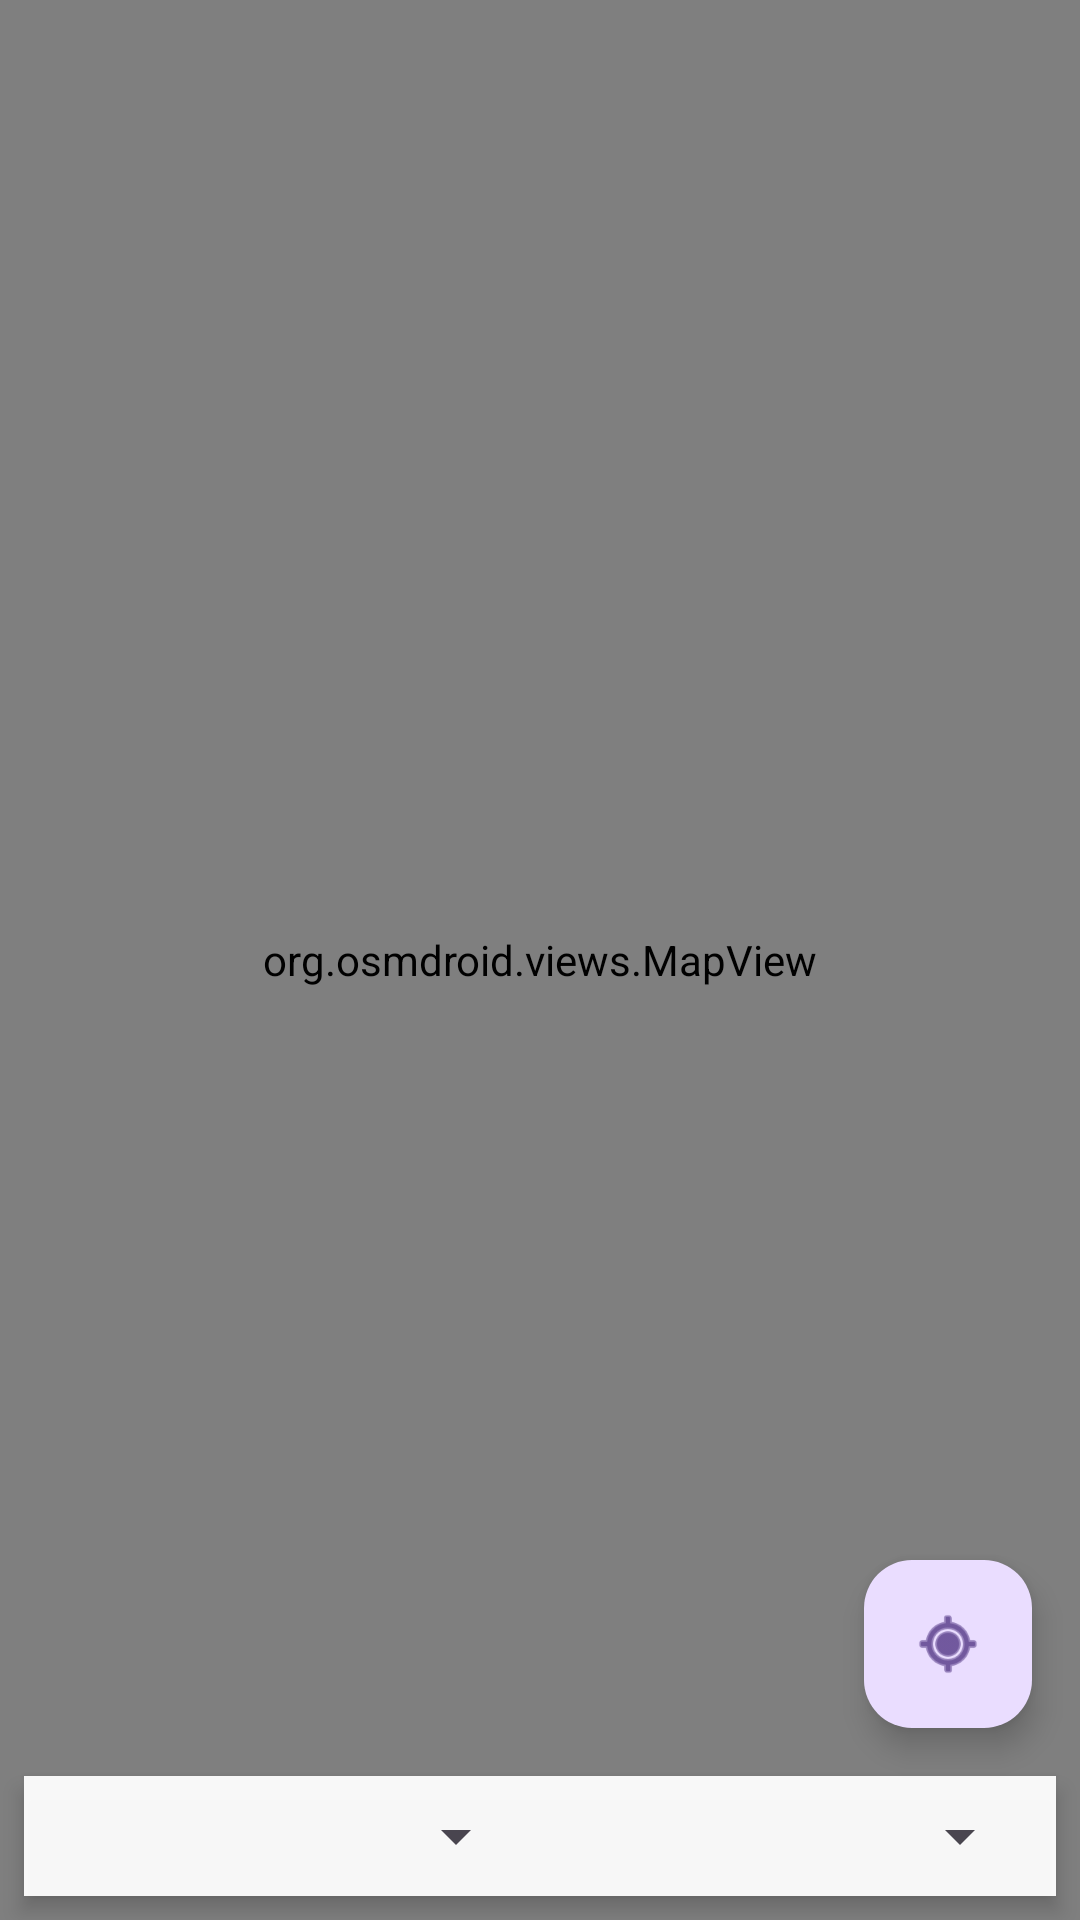

Icons on this 1080px×1920px Android screen, each with its box as (x1, y1, x2, y2):
mylocation: (864, 1560, 1032, 1728)
